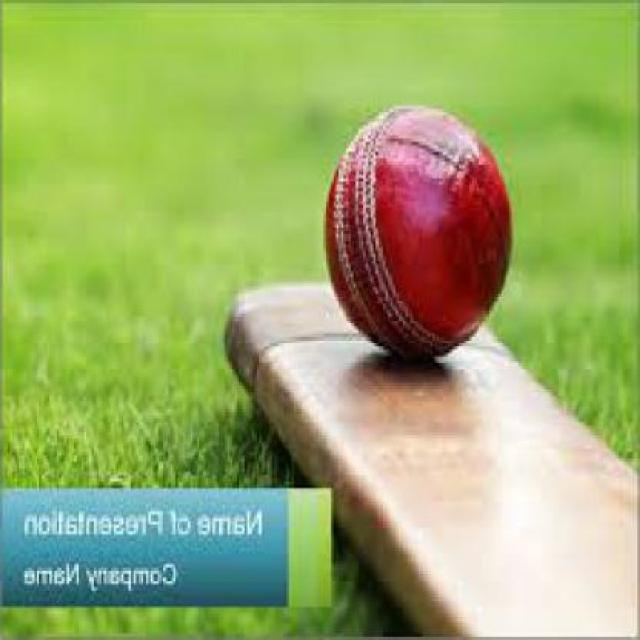ball: (297, 65, 529, 373)
